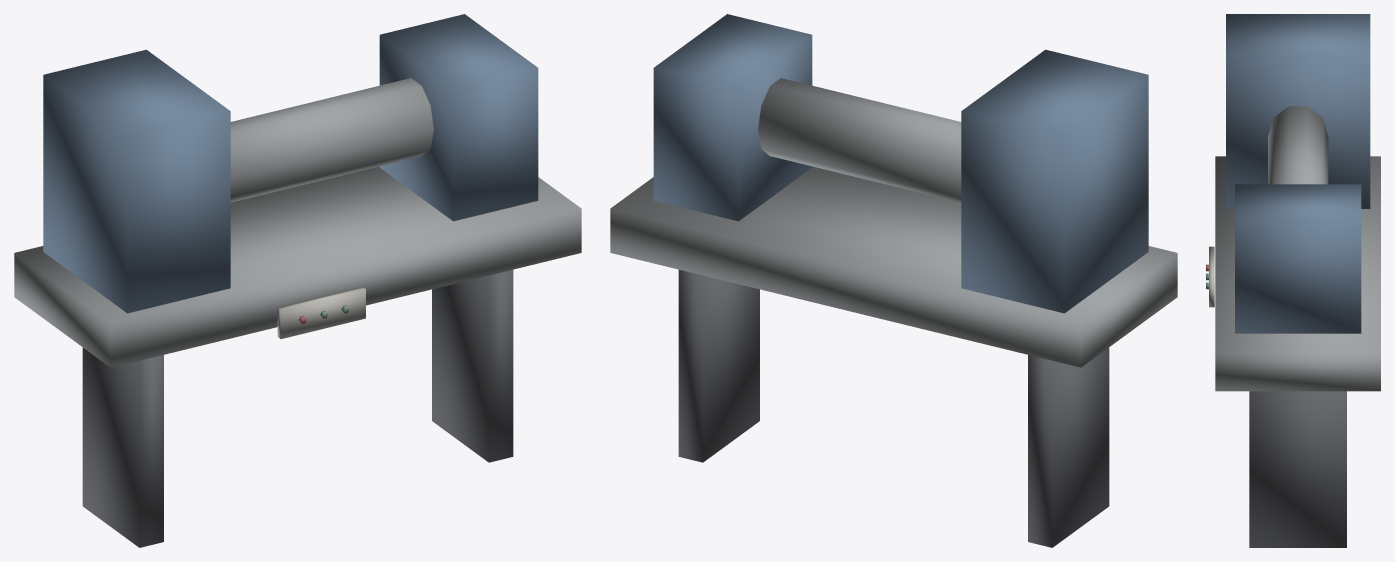
Rendered from metal_lathe_silhouette__tall.glb.
The picture shows the model from 3 angles, left to right: view 1: azimuth 30°, elevation 25°; view 2: azimuth 150°, elevation 25°; view 3: azimuth 270°, elevation 25°; orthographic projection. The views are drawn at different scales.
Parts seen in each view (by area): view 1: world; view 2: world; view 3: world.
Boxes of the visible parts, x1,y1,x2,y2 form: world: [14, 14, 581, 547]; world: [610, 14, 1177, 547]; world: [1206, 14, 1380, 547].
Size of the model in its own units: 1.55 by 1.35 by 0.581.
